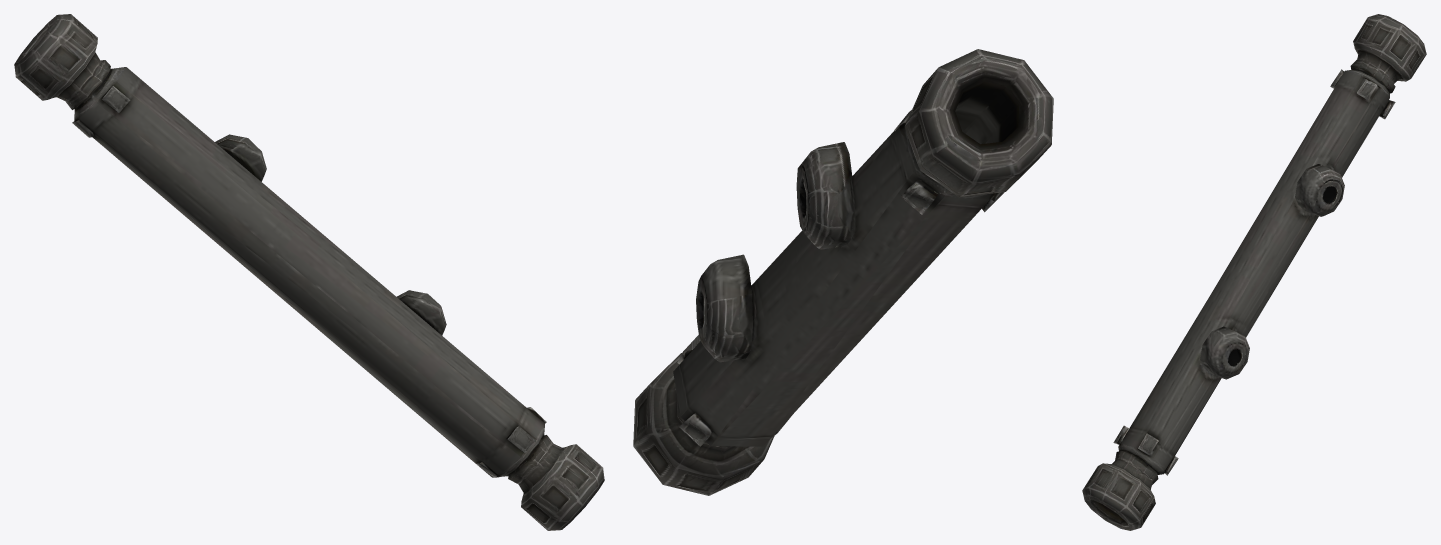
The model's file is cold-iron-v2-rod-a-spine.glb.
The picture shows the model from 3 angles, left to right: view 1: azimuth 30°, elevation 25°; view 2: azimuth 150°, elevation 25°; view 3: azimuth 270°, elevation 25°; orthographic projection. The views are drawn at different scales.
Parts seen in each view (by area): view 1: tripo_node_02809822-a1b0-49e1-9a71-fbb643103b85; view 2: tripo_node_02809822-a1b0-49e1-9a71-fbb643103b85; view 3: tripo_node_02809822-a1b0-49e1-9a71-fbb643103b85.
Boxes of the visible parts, <box> form: tripo_node_02809822-a1b0-49e1-9a71-fbb643103b85: <box>14,14,604,530</box>; tripo_node_02809822-a1b0-49e1-9a71-fbb643103b85: <box>633,49,1053,495</box>; tripo_node_02809822-a1b0-49e1-9a71-fbb643103b85: <box>1082,14,1426,530</box>.
Size of the model in its own units: 0.9316 by 0.998 by 0.8223.
1 material, 1 textured.
